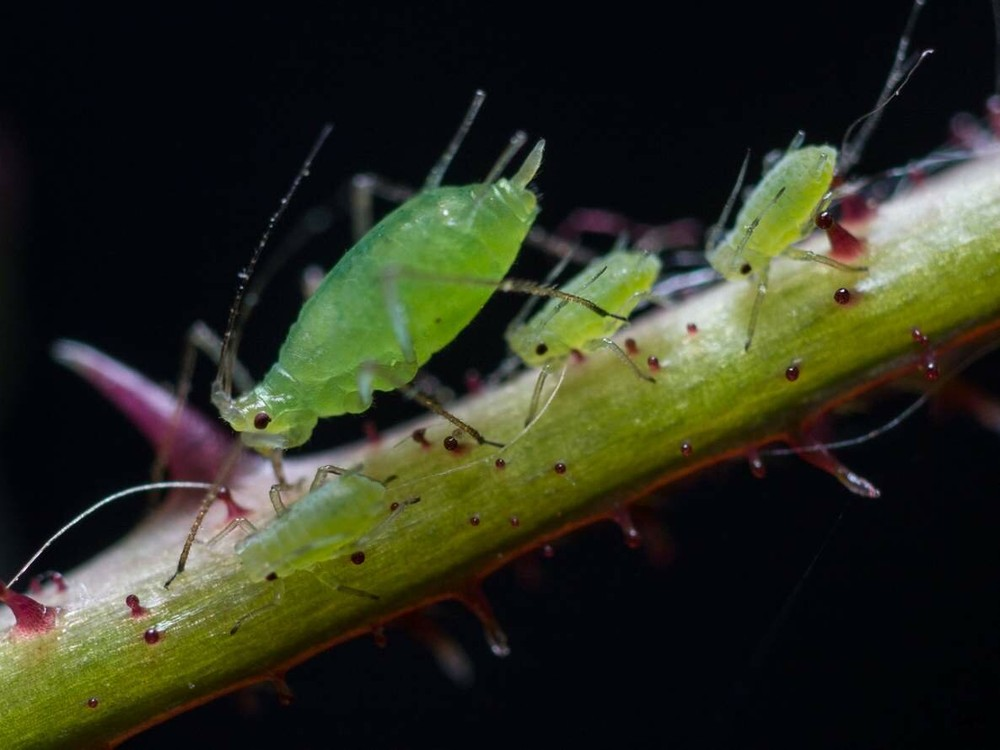Pulgon: (180, 108, 584, 469), (683, 107, 887, 321), (493, 231, 714, 405), (194, 461, 414, 618)
